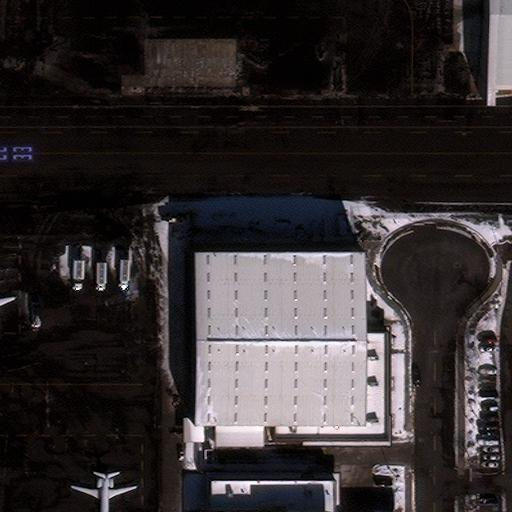Medium Civil Transport: (71, 473, 137, 512)
